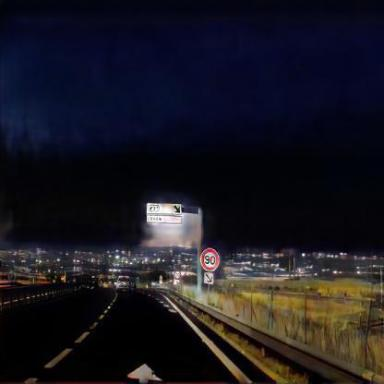Speed_limit_90: (201, 249, 220, 270)
